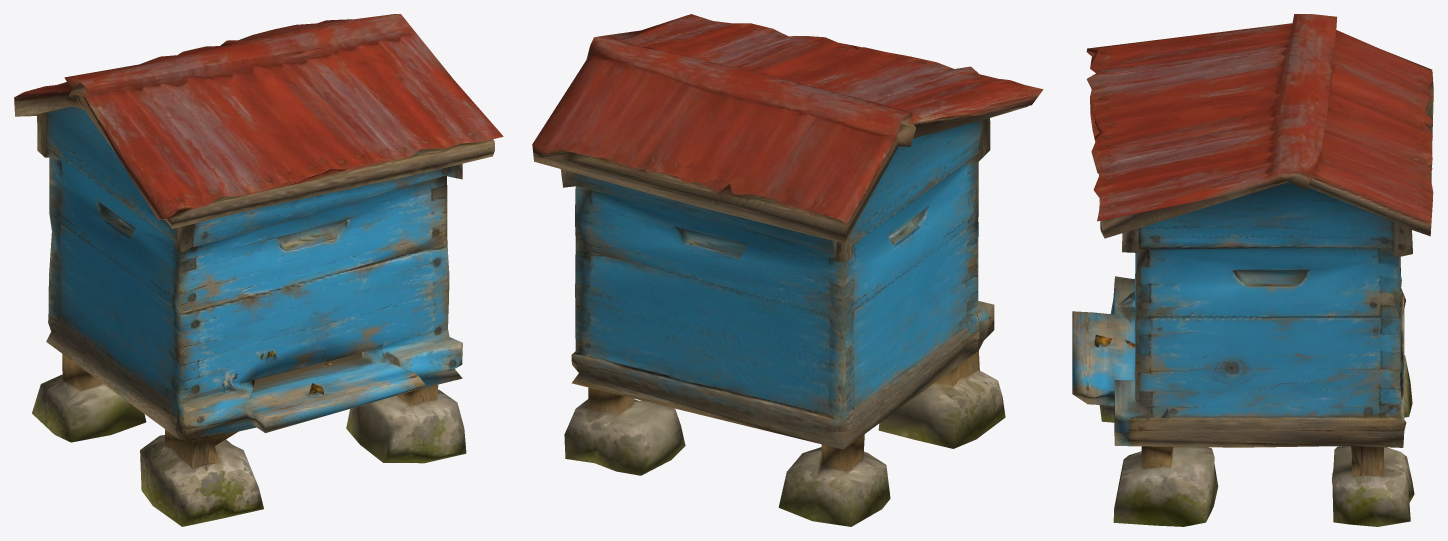
The model's file is kovan.glb.
3 views of the same model, side by side, from view 1: azimuth 30°, elevation 25°; view 2: azimuth 150°, elevation 25°; view 3: azimuth 270°, elevation 25° (orthographic).
Visible parts, largest first — view 1: tripo_node_70cf9ee2-0f95-4b56-a600-b9551c7bf642; view 2: tripo_node_70cf9ee2-0f95-4b56-a600-b9551c7bf642; view 3: tripo_node_70cf9ee2-0f95-4b56-a600-b9551c7bf642.
Boxes of the visible parts, bbox=[...] form: tripo_node_70cf9ee2-0f95-4b56-a600-b9551c7bf642: bbox=[14, 14, 503, 526]; tripo_node_70cf9ee2-0f95-4b56-a600-b9551c7bf642: bbox=[532, 14, 1043, 526]; tripo_node_70cf9ee2-0f95-4b56-a600-b9551c7bf642: bbox=[1072, 14, 1433, 526].
Bounding box in the file's own units: 0.9081 × 0.9392 × 0.8296.
1 material, 1 textured.
